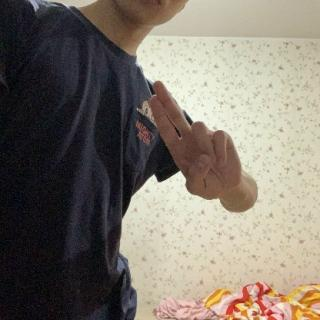TA: (146, 78, 245, 203)
